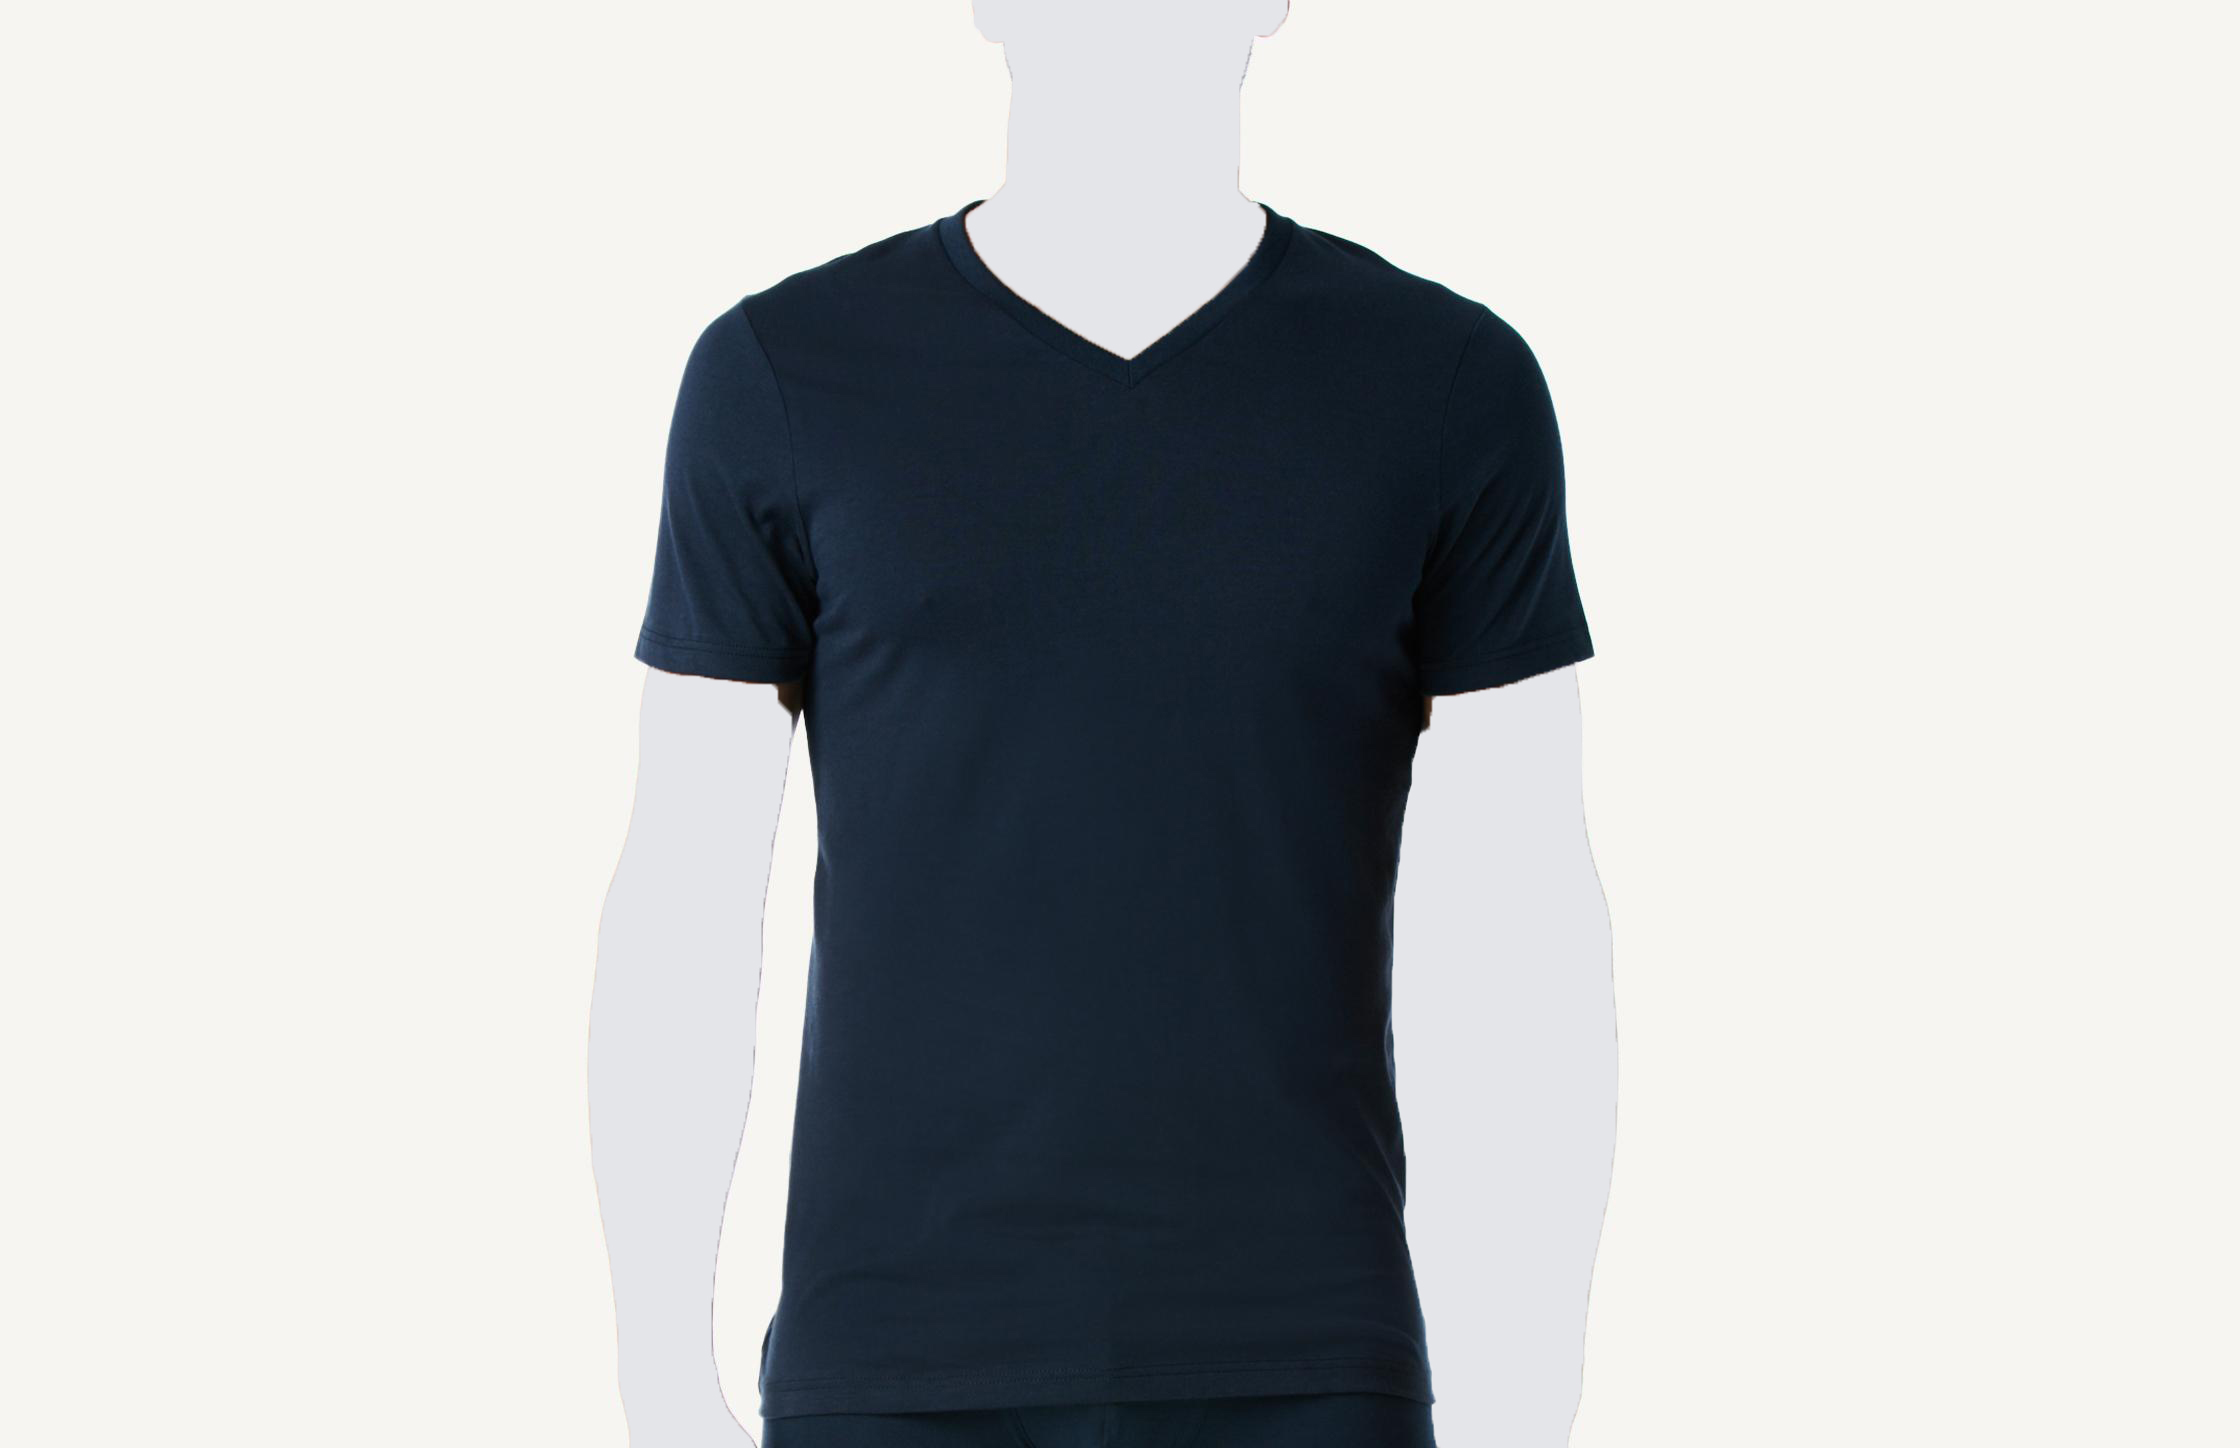teeshirt: (614, 189, 1634, 1432)
